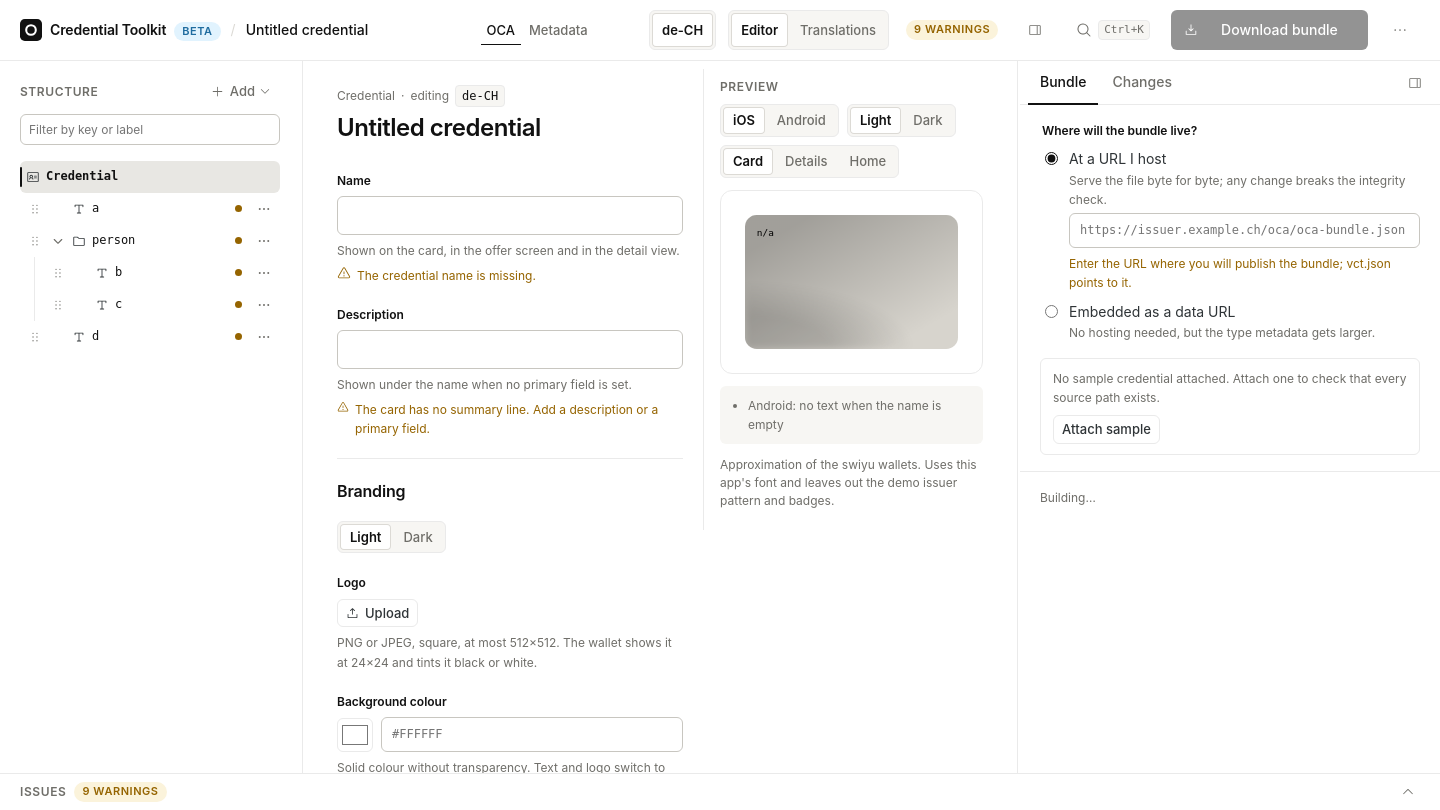
Structure Add menu › opens a menu of Attribute (N), Group and List of objects, and closes on a second click
Click the button "Add".
click(241, 91)  # box [202, 77, 280, 106]
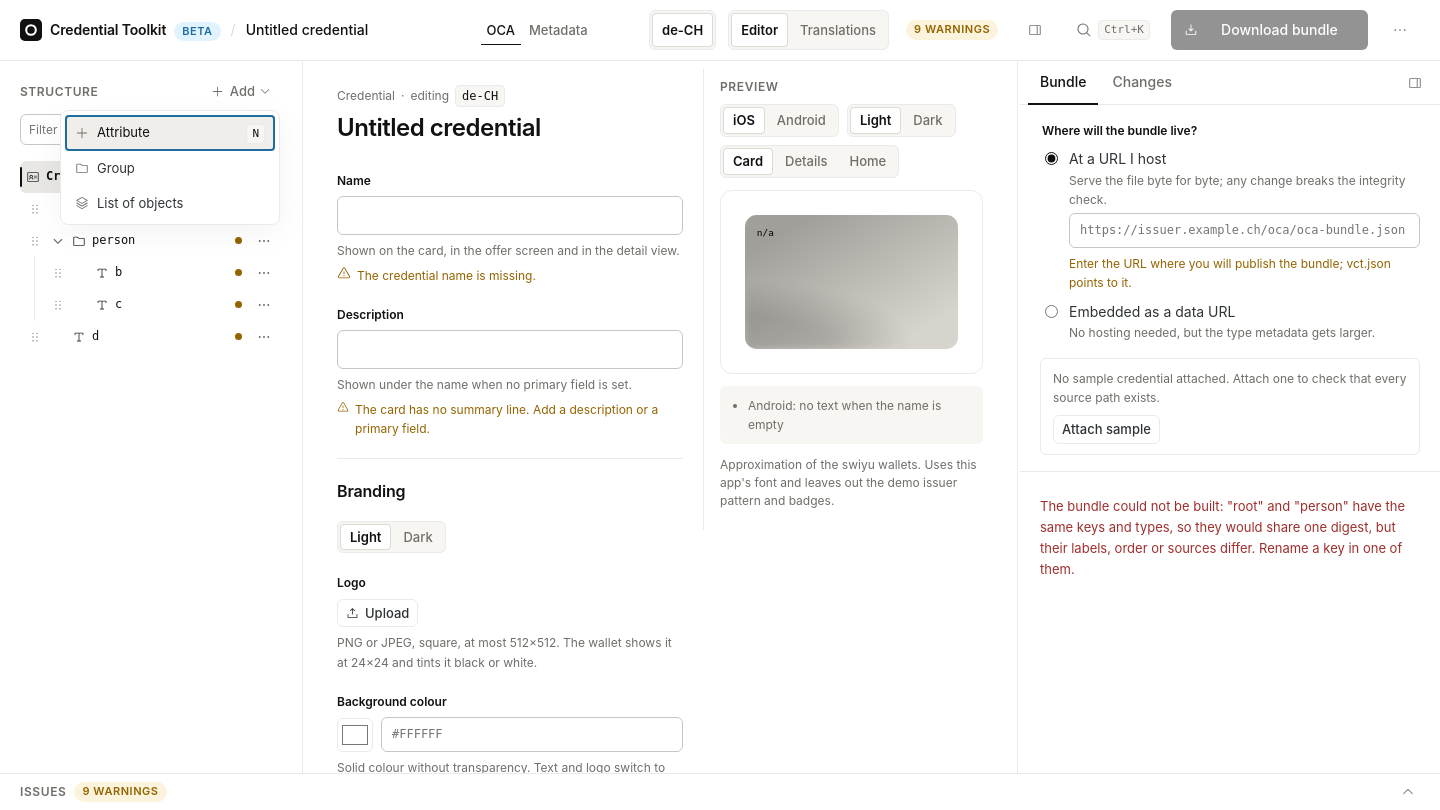
Click the button "Add".
click(241, 91)  # box [202, 77, 280, 106]
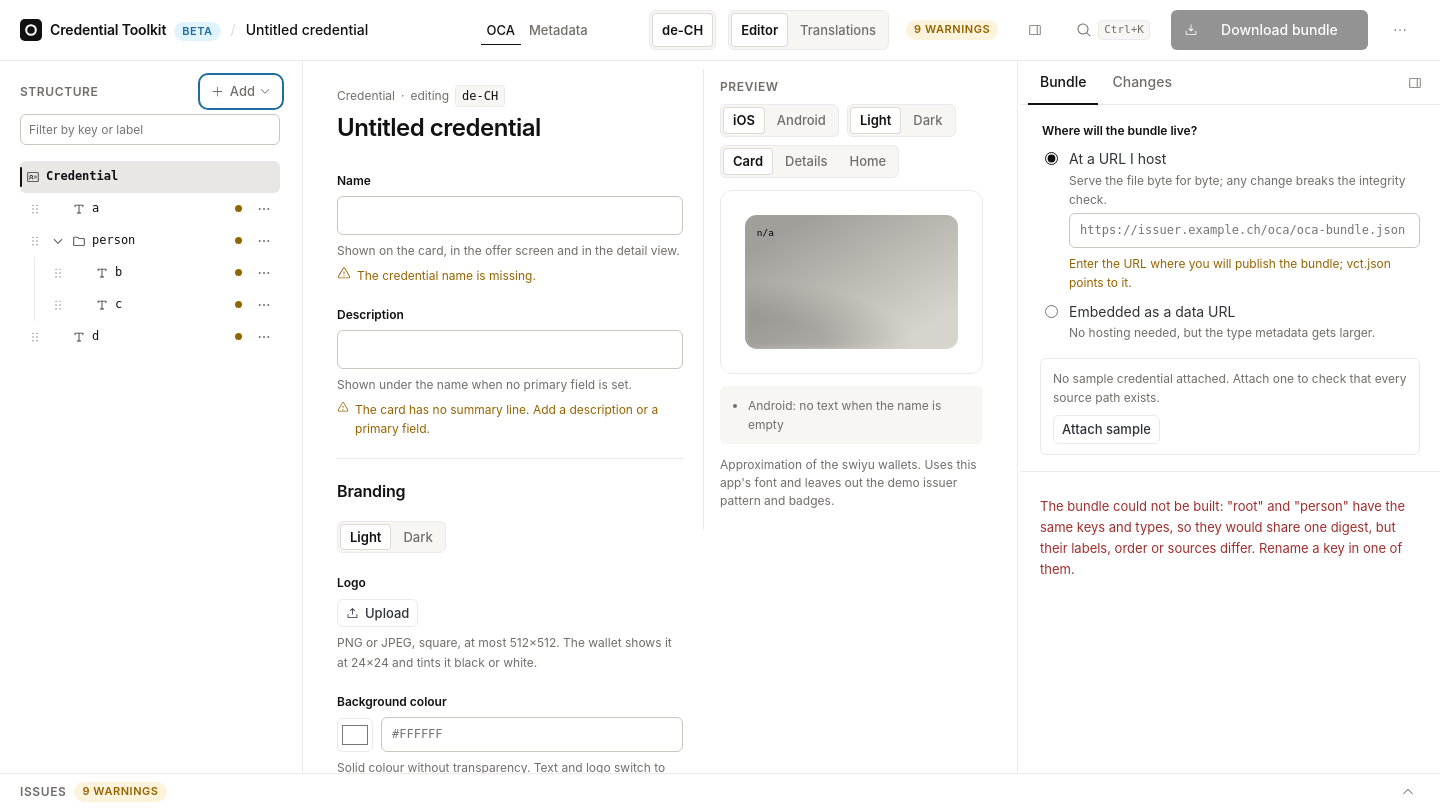
Check: the menu is gone
